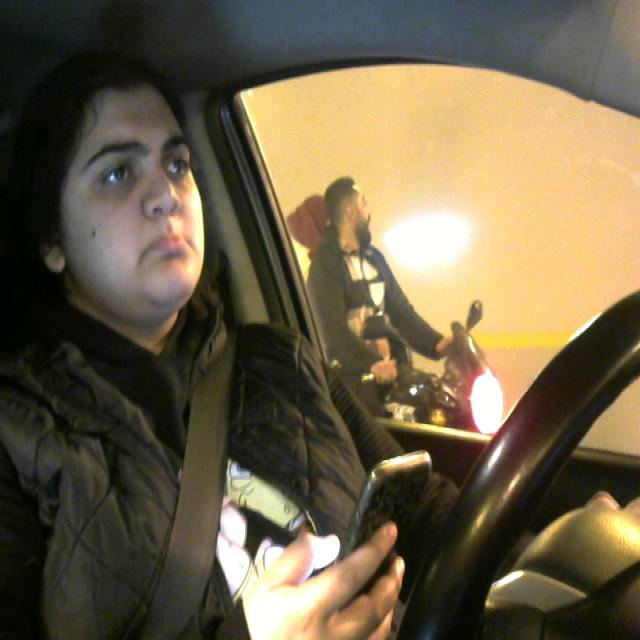mobile use: (339, 439, 432, 608)
